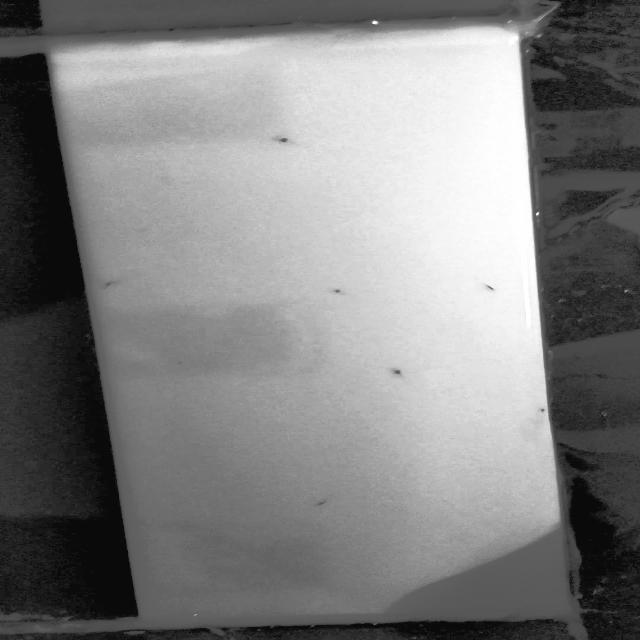shrimp: (292, 494, 354, 511), (259, 130, 308, 146), (380, 364, 415, 384), (92, 274, 130, 292), (464, 278, 504, 292), (329, 281, 353, 298)
